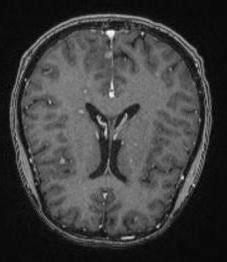Normal_Brain: (2, 3, 227, 262)
